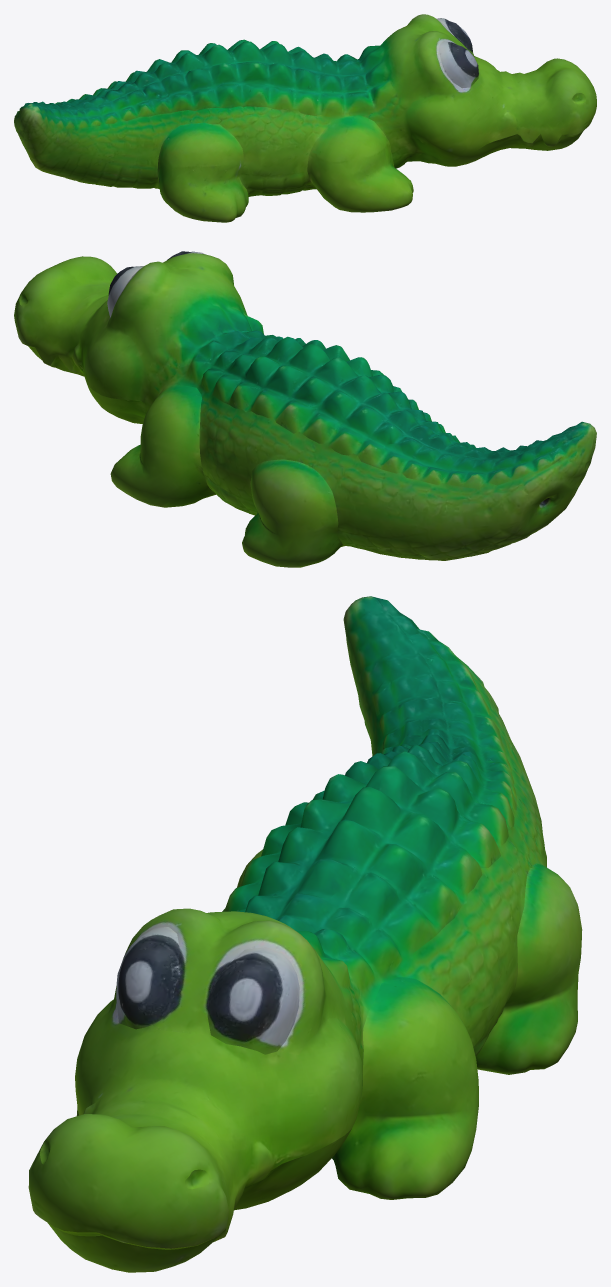
Rendered from toy_crocodile.glb.
The picture shows the model from 3 angles, top to bottom: view 1: azimuth 30°, elevation 25°; view 2: azimuth 150°, elevation 25°; view 3: azimuth 270°, elevation 25°; orthographic projection. The views are drawn at different scales.
Visible parts, largest first — view 1: 1_1_1_10_0; view 2: 1_1_1_10_0; view 3: 1_1_1_10_0.
Part boxes in pixels (x1=…): 1_1_1_10_0: x1=14, y1=14, x2=596, y2=222; 1_1_1_10_0: x1=14, y1=251, x2=596, y2=567; 1_1_1_10_0: x1=28, y1=596, x2=582, y2=1272.
Bounding box in the file's own units: 18.64 × 5.04 × 8.74.
Materials: 1 (1 with a texture image).
